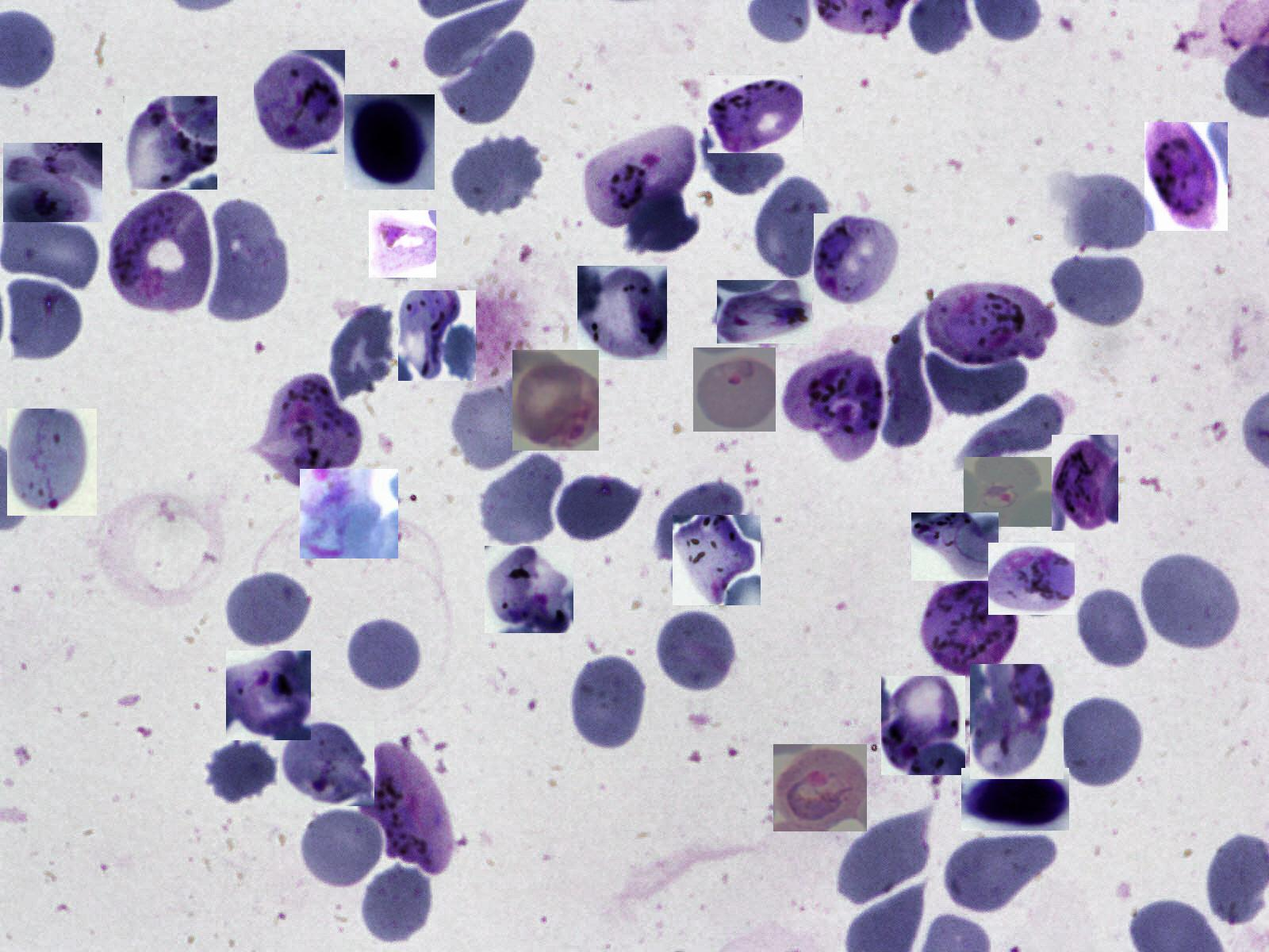Infected: (359, 743, 454, 877), (108, 194, 213, 315), (582, 122, 701, 228), (257, 375, 358, 493), (784, 347, 888, 460), (918, 575, 1022, 680), (970, 664, 1064, 779), (929, 281, 1057, 363), (7, 409, 97, 516), (254, 50, 345, 154), (1144, 122, 1228, 231), (123, 96, 217, 190), (300, 469, 398, 559), (512, 350, 599, 451), (344, 94, 435, 190), (577, 266, 667, 360), (881, 676, 965, 775), (773, 744, 867, 831), (279, 721, 374, 806), (673, 516, 761, 606), (3, 143, 102, 222), (814, 214, 899, 305), (485, 546, 573, 633), (226, 651, 311, 740), (708, 75, 803, 153), (398, 290, 476, 381), (693, 347, 776, 432), (961, 768, 1069, 831), (1052, 435, 1118, 531), (988, 543, 1075, 615), (964, 457, 1052, 527), (717, 280, 812, 344), (911, 512, 999, 581), (369, 210, 436, 278)
Uninfected: (1139, 548, 1243, 654), (205, 194, 288, 326), (834, 808, 936, 911), (753, 170, 834, 285), (942, 836, 1057, 916), (1059, 692, 1146, 793), (953, 390, 1068, 466), (478, 447, 565, 547), (569, 649, 650, 755), (444, 31, 535, 124), (324, 296, 399, 406), (1051, 248, 1149, 331), (448, 132, 543, 217), (652, 608, 740, 697), (879, 305, 933, 450), (1064, 171, 1156, 255), (222, 566, 313, 650), (298, 805, 387, 890), (451, 378, 531, 471), (654, 482, 746, 562), (5, 276, 86, 363), (926, 349, 1028, 417), (1073, 585, 1152, 672), (696, 122, 785, 194), (344, 613, 424, 693), (555, 474, 646, 544), (355, 864, 432, 944), (204, 732, 279, 804)
